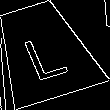L_N: (16, 23, 71, 80)
